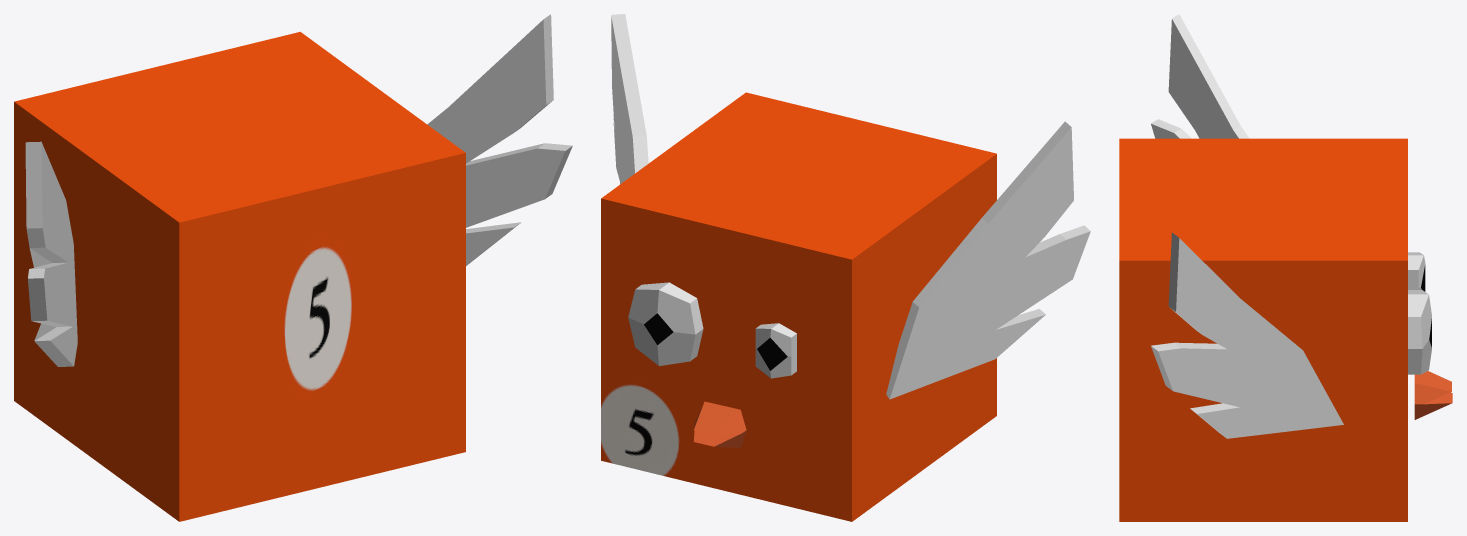
File: bird5.fbx
3 views of the same model, side by side, from view 1: azimuth 30°, elevation 25°; view 2: azimuth 150°, elevation 25°; view 3: azimuth 270°, elevation 25° (orthographic). The views are drawn at different scales.
Parts seen in each view (by area): view 1: 5; view 2: 5; view 3: 5.
Boxes of the visible parts, left/top/right/bottom form: 5: left=14, top=14, right=572, bottom=521; 5: left=601, top=14, right=1090, bottom=521; 5: left=1119, top=14, right=1452, bottom=521.
Bounding box in the file's own units: 2.34 × 1.42 × 1.57.
